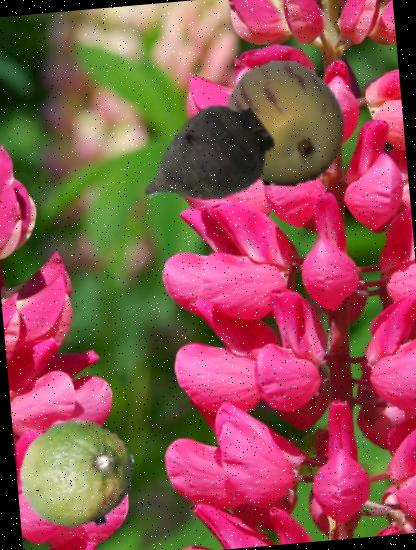Beetroot: (126, 84, 284, 242)
Limes: (15, 412, 141, 538)
Pepino: (217, 56, 352, 190)
